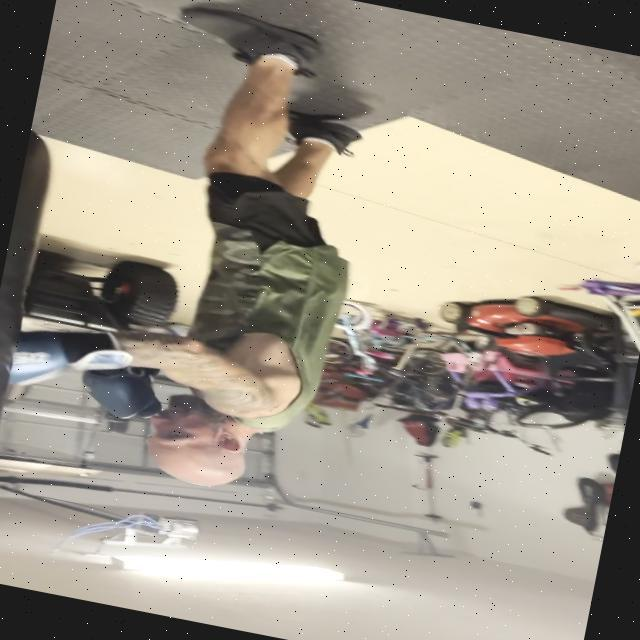jab: (0, 224, 333, 521)
